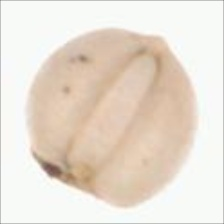L5: (67, 49, 162, 175), (30, 146, 100, 199), (128, 29, 181, 63)
L6: (23, 26, 200, 210)
